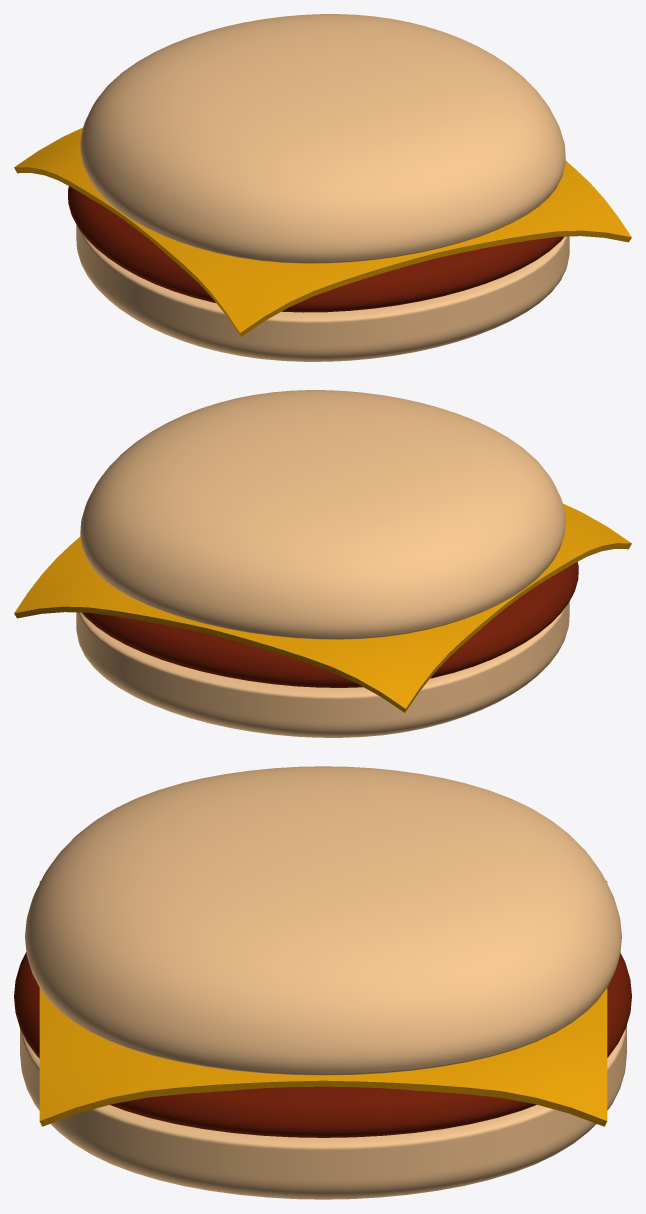
The model's file is myHamburger.glb.
3 renders of one model, top to bottom at view 1: azimuth 30°, elevation 25°; view 2: azimuth 150°, elevation 25°; view 3: azimuth 270°, elevation 25°, orthographic. The views are drawn at different scales.
Parts seen in each view (by area): view 1: bottom, top, Plane, Cube.001; view 2: bottom, top, Plane, Cube.001; view 3: bottom, top, Plane, Cube.001.
Part boxes in pixels (<box>): bottom: <box>80,14,565,263</box>; top: <box>76,225,569,361</box>; Plane: <box>14,127,631,336</box>; Cube.001: <box>68,186,563,312</box>; bottom: <box>80,390,565,639</box>; top: <box>76,602,569,737</box>; Plane: <box>14,503,631,712</box>; Cube.001: <box>82,562,578,687</box>; bottom: <box>25,766,621,1075</box>; top: <box>20,1025,626,1199</box>; Plane: <box>39,881,607,1126</box>; Cube.001: <box>14,952,631,1137</box>.
Bounding box in the file's own units: 9.4 × 4.4 × 9.19.
